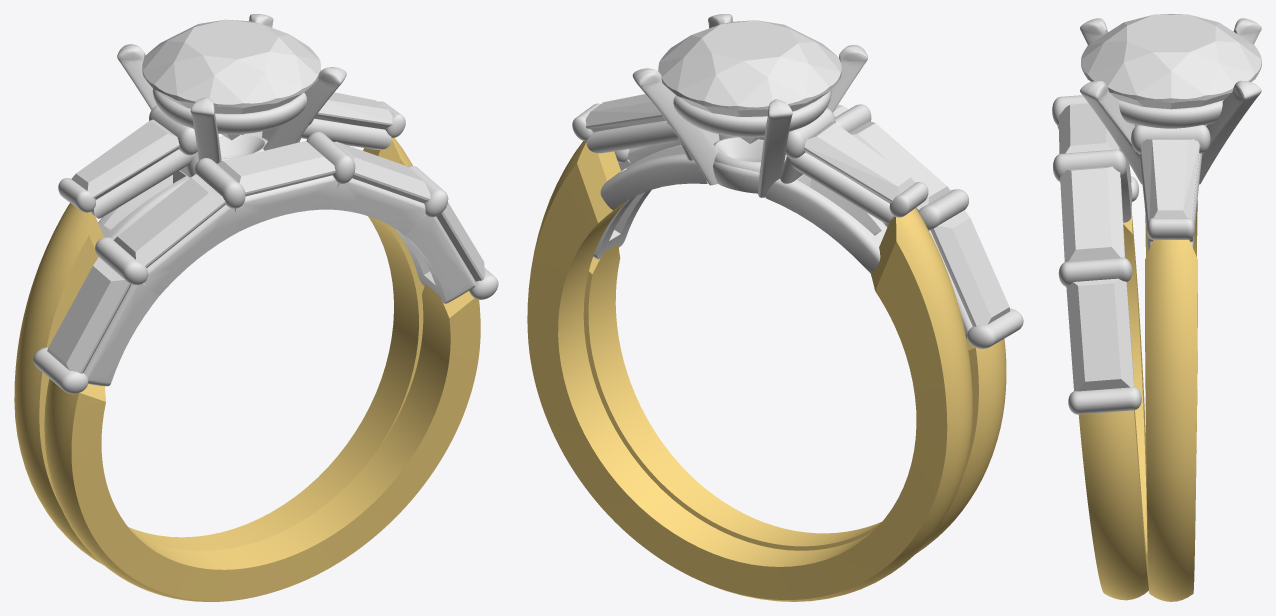
The model's file is Abby5stoneBOTH_blender.glb.
The picture shows the model from 3 angles, left to right: view 1: azimuth 30°, elevation 25°; view 2: azimuth 150°, elevation 25°; view 3: azimuth 270°, elevation 25°; orthographic projection. The views are drawn at different scales.
Parts seen in each view (by area): view 1: v3 Abby YG for 3d model, Abby YG both for 3d model, v3 Abby PT for 3d model, Abby round dia both for 3d model, v3 Abby dia baguette for 3d model.001, v3 Abby dia baguette for 3d model, Abby baguette dia both for 3d model, v3 Abby dia baguette for 3d model.004, Abby PT both for 3d model.025, v3 Abby dia baguette for 3d model.003, Abby PT both for 3d model.028, Abby PT both for 3d model.033 (+9 smaller); view 2: Abby YG both for 3d model, v3 Abby YG for 3d model, Abby round dia both for 3d model, v3 Abby PT for 3d model, Abby PT both for 3d model.040, v3 Abby dia baguette for 3d model.001, Abby baguette dia both for 3d model, Abby PT both for 3d model.024, Abby PT both for 3d model.027, Abby PT both for 3d model.025, v3 Abby dia baguette for 3d model, Abby PT both for 3d model.033 (+8 smaller); view 3: Abby YG both for 3d model, Abby round dia both for 3d model, v3 Abby YG for 3d model, v3 Abby dia baguette for 3d model.002, v3 Abby PT for 3d model, v3 Abby dia baguette for 3d model.003, Abby baguette dia both for 3d model.001, v3 Abby dia baguette for 3d model.004, Abby PT both for 3d model.027, Abby PT both for 3d model.025, Abby PT both for 3d model.028, Abby PT both for 3d model.035 (+4 smaller).
Boxes of the visible parts, box(x1,y1,x2,y2) form: v3 Abby YG for 3d model: box(44, 284, 480, 601); Abby YG both for 3d model: box(14, 138, 424, 565); v3 Abby PT for 3d model: box(33, 131, 498, 394); Abby round dia both for 3d model: box(142, 19, 320, 140); v3 Abby dia baguette for 3d model.001: box(47, 257, 131, 373); v3 Abby dia baguette for 3d model: box(113, 174, 225, 267); Abby baguette dia both for 3d model: box(71, 119, 179, 199); v3 Abby dia baguette for 3d model.004: box(217, 141, 335, 196); Abby PT both for 3d model.025: box(152, 88, 306, 134); v3 Abby dia baguette for 3d model.003: box(334, 141, 430, 203); Abby PT both for 3d model.028: box(263, 67, 346, 150); Abby PT both for 3d model.033: box(91, 149, 192, 218); Abby YG both for 3d model: box(527, 141, 972, 601); v3 Abby YG for 3d model: box(583, 244, 1006, 554); Abby round dia both for 3d model: box(658, 20, 841, 143); v3 Abby PT for 3d model: box(593, 104, 1023, 348); Abby PT both for 3d model.040: box(766, 174, 887, 273); v3 Abby dia baguette for 3d model.001: box(930, 210, 1009, 326); Abby baguette dia both for 3d model: box(804, 122, 915, 203); Abby PT both for 3d model.024: box(600, 145, 708, 210); Abby PT both for 3d model.027: box(632, 68, 718, 185); Abby PT both for 3d model.025: box(673, 90, 831, 137); v3 Abby dia baguette for 3d model: box(849, 121, 950, 210); Abby PT both for 3d model.033: box(790, 152, 894, 223); Abby YG both for 3d model: box(1145, 200, 1197, 601); Abby round dia both for 3d model: box(1081, 14, 1261, 109); v3 Abby YG for 3d model: box(1078, 212, 1148, 600); v3 Abby dia baguette for 3d model.002: box(1066, 278, 1134, 391); v3 Abby PT for 3d model: box(1052, 95, 1141, 414); v3 Abby dia baguette for 3d model.003: box(1060, 166, 1124, 262); Abby baguette dia both for 3d model.001: box(1141, 139, 1199, 220); v3 Abby dia baguette for 3d model.004: box(1059, 103, 1119, 153); Abby PT both for 3d model.027: box(1199, 80, 1261, 184); Abby PT both for 3d model.025: box(1116, 98, 1223, 128); Abby PT both for 3d model.028: box(1080, 80, 1142, 184); Abby PT both for 3d model.035: box(1131, 125, 1210, 153).
Size of the model in its own units: 21.19 by 24.96 by 8.7.
